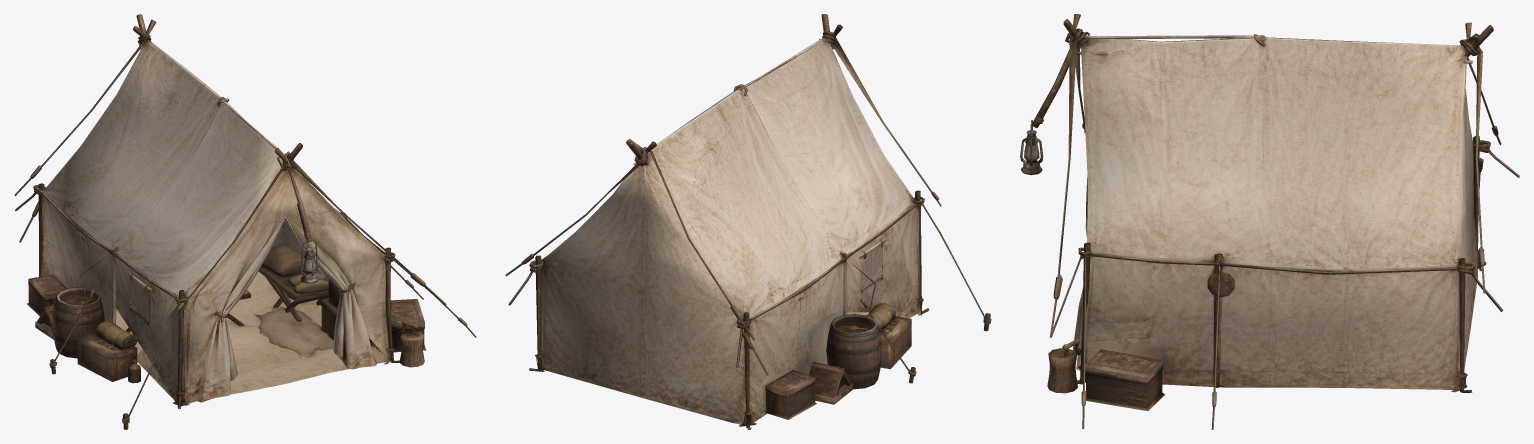
File: camp3.glb
3 renders of one model, left to right at view 1: azimuth 30°, elevation 25°; view 2: azimuth 150°, elevation 25°; view 3: azimuth 270°, elevation 25°, orthographic. The views are drawn at different scales.
Visible parts, largest first — view 1: tripo_node_44314f59-5ad9-43d8-91f2-adc7485dc3fa; view 2: tripo_node_44314f59-5ad9-43d8-91f2-adc7485dc3fa; view 3: tripo_node_44314f59-5ad9-43d8-91f2-adc7485dc3fa.
Part boxes in pixels (box(x1,y1,x2,y2)): tripo_node_44314f59-5ad9-43d8-91f2-adc7485dc3fa: box(14, 14, 476, 429); tripo_node_44314f59-5ad9-43d8-91f2-adc7485dc3fa: box(505, 14, 991, 429); tripo_node_44314f59-5ad9-43d8-91f2-adc7485dc3fa: box(1020, 14, 1519, 429).
Bounding box in the file's own units: 5.4 × 3.73 × 5.4.
Materials: 1 (1 with a texture image).
